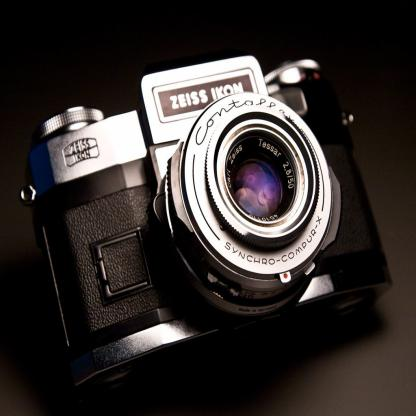Camera: (20, 44, 393, 372)
